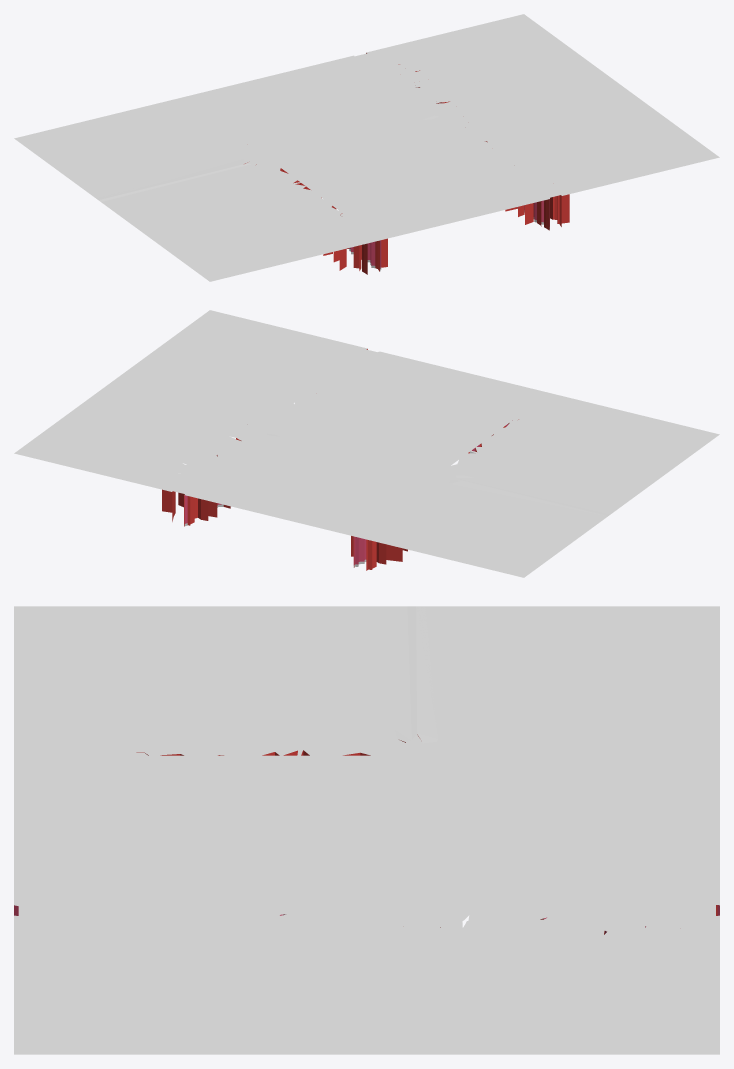
File: newice3.fbx
The picture shows the model from 3 angles, top to bottom: view 1: azimuth 30°, elevation 25°; view 2: azimuth 150°, elevation 25°; view 3: azimuth 270°, elevation 25°; orthographic projection. The views are drawn at different scales.
Parts seen in each view (by area): view 1: Plane.009, Plane, Plane.007, Plane.010, Plane.002, Plane.008, Main; view 2: Plane.009, Plane.007, Plane, Plane.010, Plane.002, Plane.008, Main; view 3: Plane.007, Plane.009, Plane, Plane.010, Plane.002, Plane.008, Main, Plane.001.
Boxes of the visible parts, x1,y1,x2,y2 form: Plane.009: (366, 14, 719, 226); Plane: (226, 53, 568, 229); Plane.007: (15, 97, 379, 281); Plane.010: (14, 100, 367, 281); Plane.002: (184, 56, 485, 240); Plane.008: (187, 55, 549, 271); Main: (185, 57, 549, 271); Plane.009: (14, 310, 367, 521); Plane.007: (354, 393, 719, 577); Plane: (164, 348, 507, 525); Plane.010: (366, 396, 719, 577); Plane.002: (185, 352, 548, 535); Plane.008: (184, 353, 549, 556); Main: (184, 351, 546, 567); Plane.007: (14, 606, 719, 764); Plane.009: (14, 908, 719, 1054); Plane: (18, 791, 715, 935); Plane.010: (14, 606, 719, 748); Plane.002: (14, 755, 719, 904); Plane.008: (14, 752, 719, 934); Main: (14, 750, 719, 933); Plane.001: (26, 750, 682, 905).
Size of the model in its own units: 8414 by 505 by 5600.
